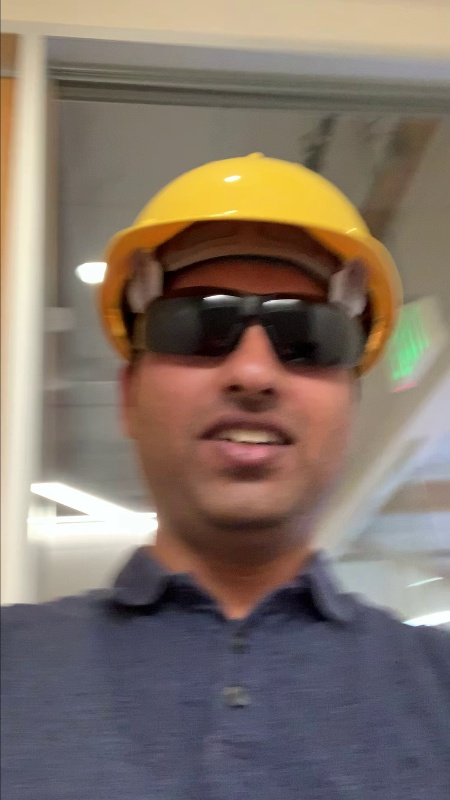glasses: (139, 287, 385, 372)
helmet: (94, 150, 410, 317)
